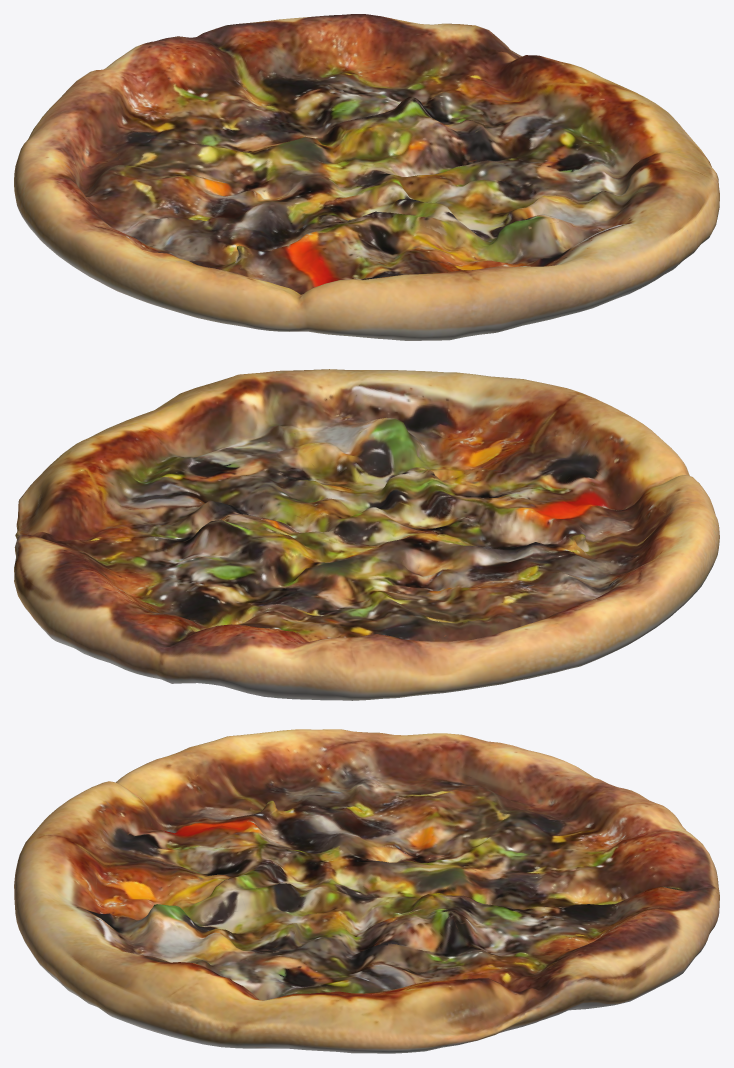
Rendered from Pizza.glb.
The picture shows the model from 3 angles, top to bottom: view 1: azimuth 30°, elevation 25°; view 2: azimuth 150°, elevation 25°; view 3: azimuth 270°, elevation 25°; orthographic projection. The views are drawn at different scales.
Parts seen in each view (by area): view 1: Vegetable_Delight_Piz_0317120427_texture; view 2: Vegetable_Delight_Piz_0317120427_texture; view 3: Vegetable_Delight_Piz_0317120427_texture.
Part boxes in pixels (x1,y1,x2,y2): Vegetable_Delight_Piz_0317120427_texture: [14, 14, 719, 340]; Vegetable_Delight_Piz_0317120427_texture: [14, 369, 719, 700]; Vegetable_Delight_Piz_0317120427_texture: [14, 729, 719, 1053].
Bounding box in the file's own units: 1.94 × 0.2166 × 2.
1 material, 1 textured.
